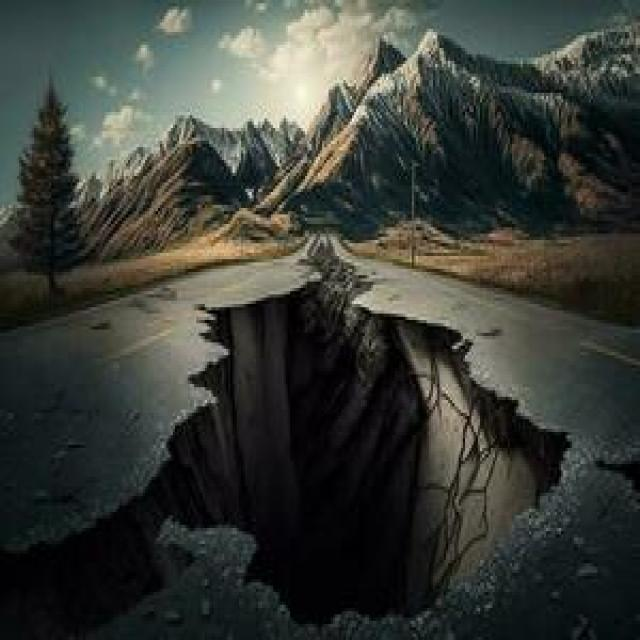road collapse: (4, 160, 640, 640)
